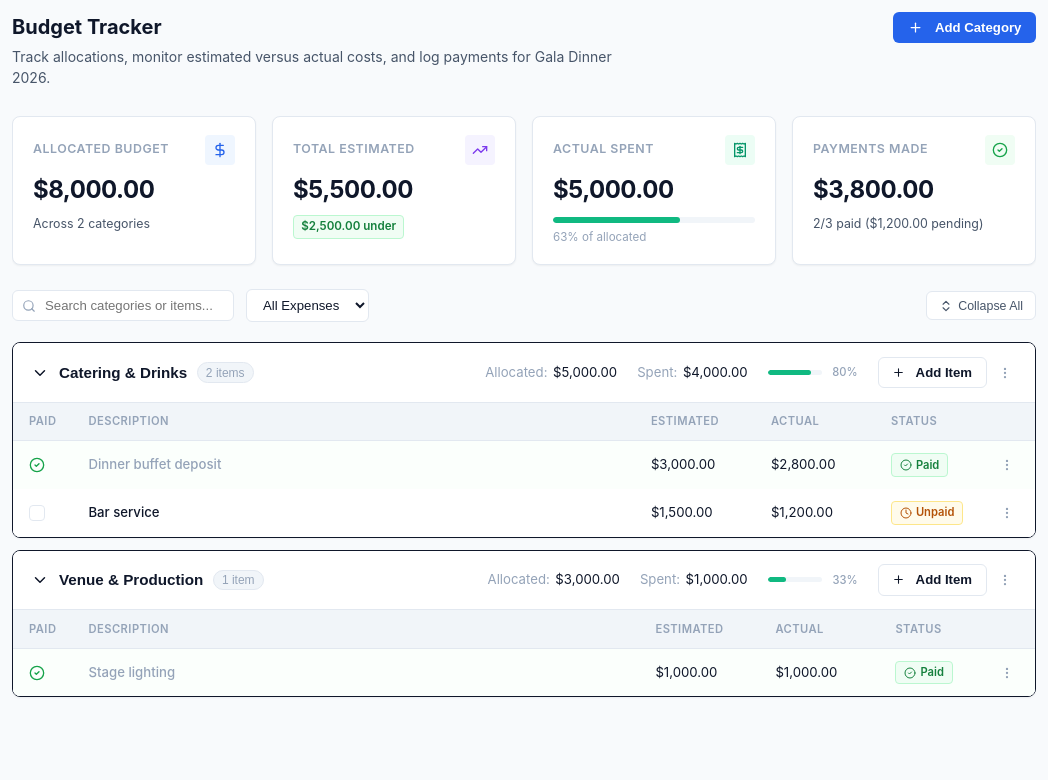
Test case: Nested Budget Category & Line Items Table (Sub-Task 3.4.2) › filters line items by payment status dropdown
// Filter to Unpaid only
Select "Unpaid Only" in the dropdown named "Filter expenses by payment status" at point(308, 306), box [246,289,369,322]
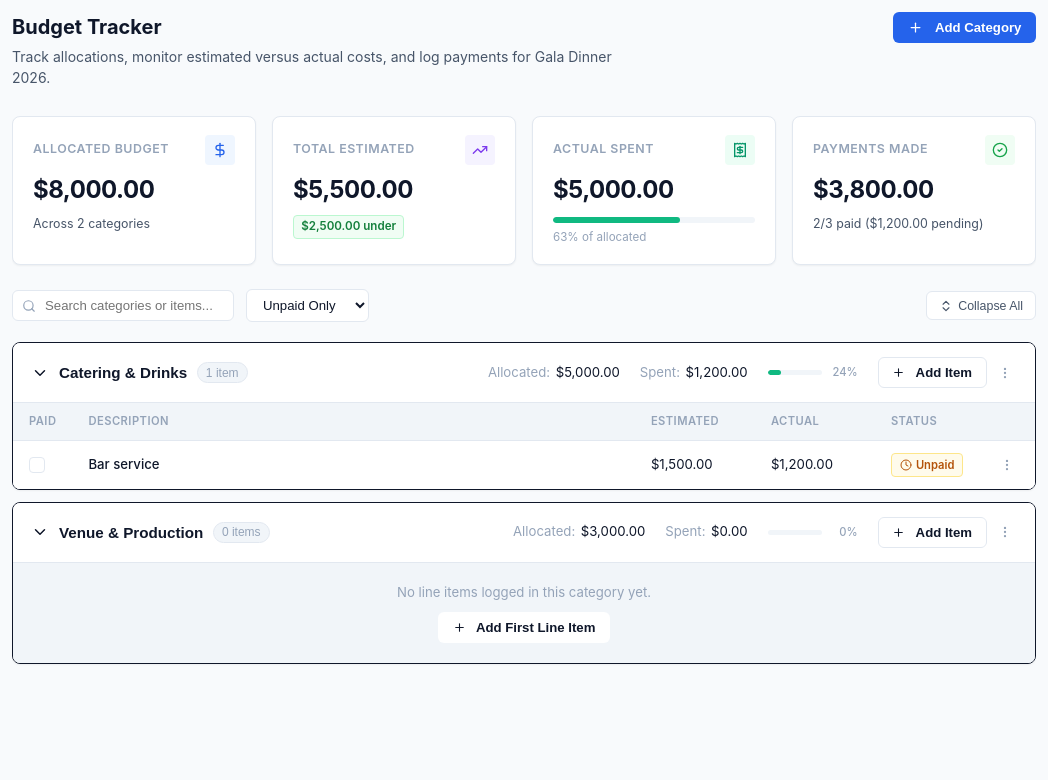
Expected: the text "Bar service" is shown, [88,456,160,472]
Result: the text "Dinner buffet deposit" is gone
Result: the text "Stage lighting" is gone
// Filter to Paid only
Select "Paid Only" in the dropdown named "Filter expenses by payment status" at point(308, 306), box [246,289,369,322]
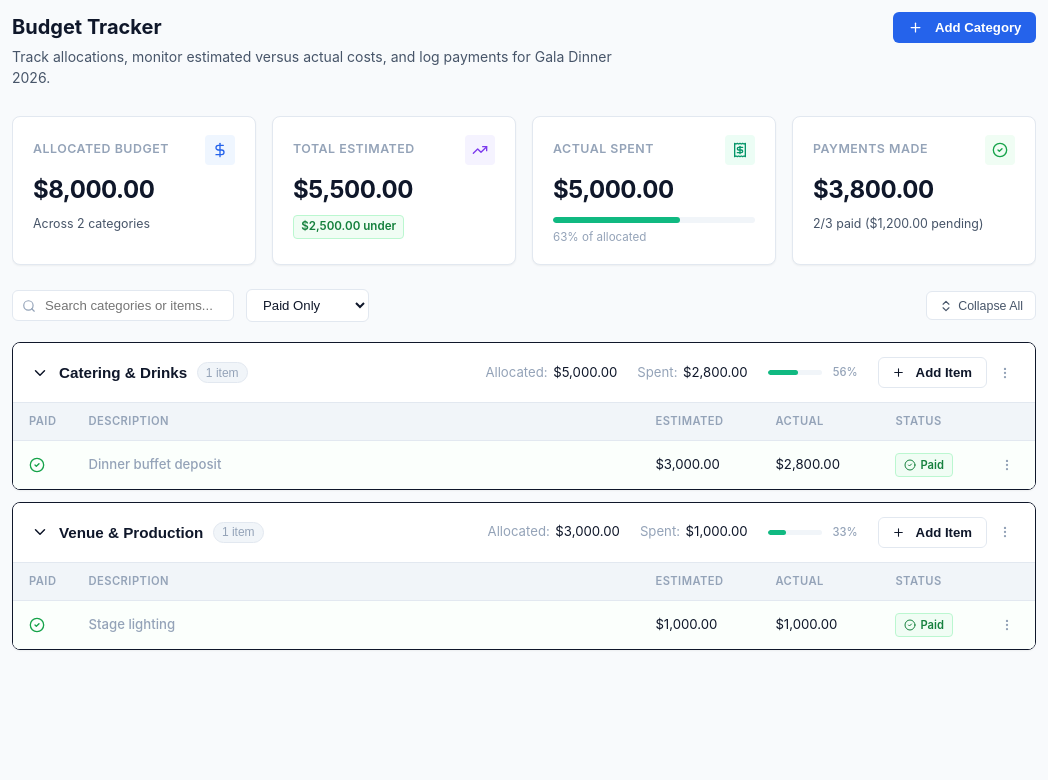
Result: the text "Bar service" is gone
Result: the text "Dinner buffet deposit" is shown at [88,456,221,472]
Result: the text "Stage lighting" is shown at [88,616,175,632]
